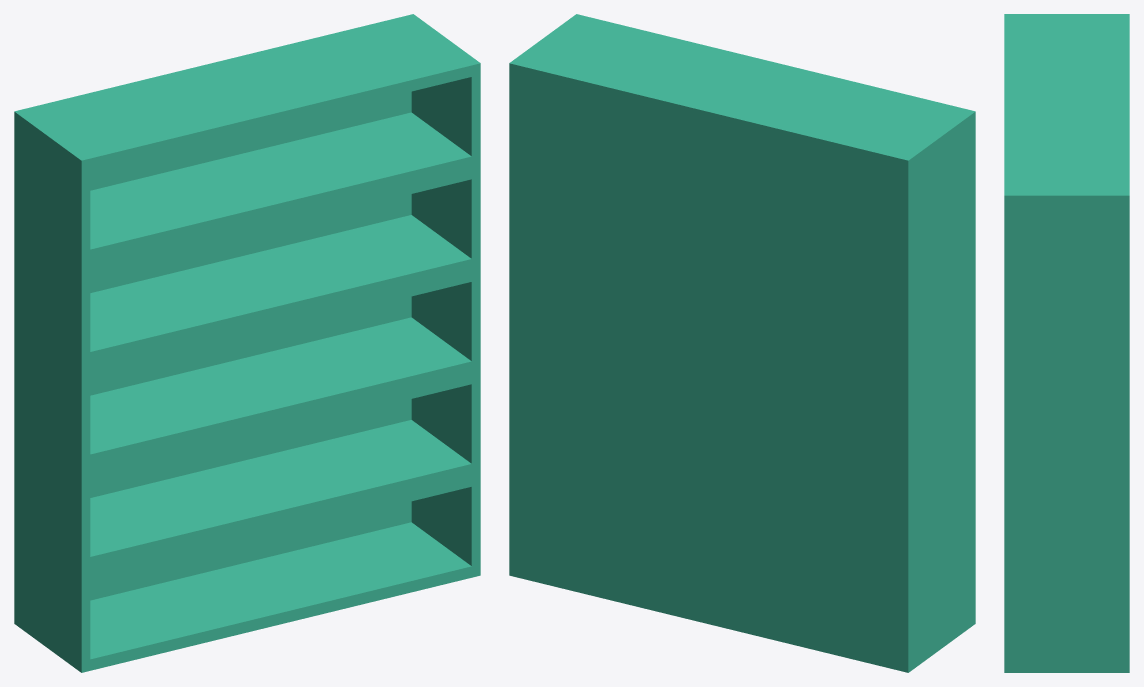
File: Estanteria.fbx
3 views of the same model, side by side, from view 1: azimuth 30°, elevation 25°; view 2: azimuth 150°, elevation 25°; view 3: azimuth 270°, elevation 25° (orthographic). The views are drawn at different scales.
Visible parts, largest first — view 1: Estanteria; view 2: Estanteria; view 3: Estanteria.
Boxes of the visible parts, <box> form: Estanteria: <box>14,14,480,672</box>; Estanteria: <box>509,14,975,672</box>; Estanteria: <box>1004,14,1129,672</box>.
Bounding box in the file's own units: 149 × 183 × 43.51.
